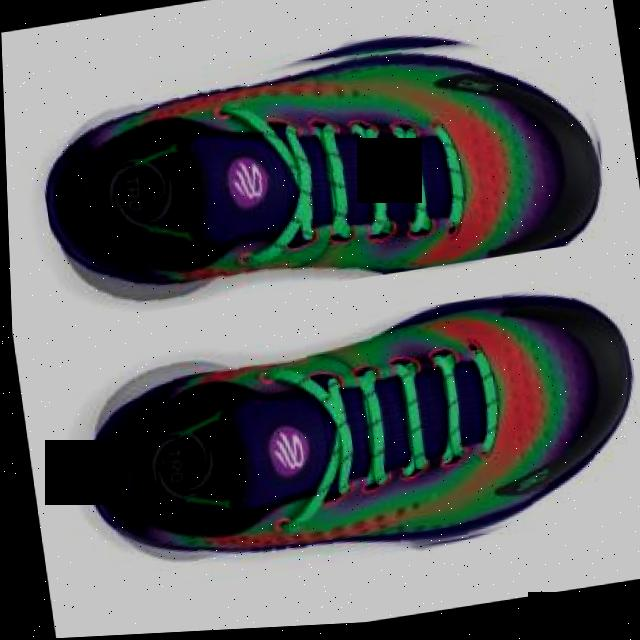shoe: (27, 9, 614, 326), (62, 281, 640, 602)
